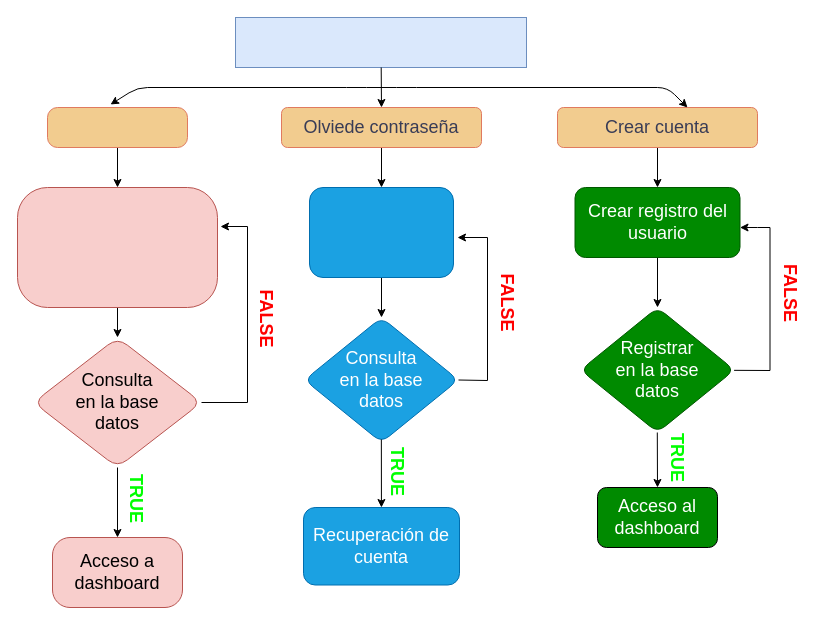
The diagram is 822 pixels wide and 625 high, and some of its shapes have lost their labels. Each missing label, with the box of its shape:
Login: (46, 106, 188, 148)
Proceso autenticación usuario: (234, 16, 526, 68)
Validación de correo electronico: (308, 186, 454, 278)
Validación de datos: 1-Correo electronico. 2-Contraseña.: (16, 186, 218, 308)
